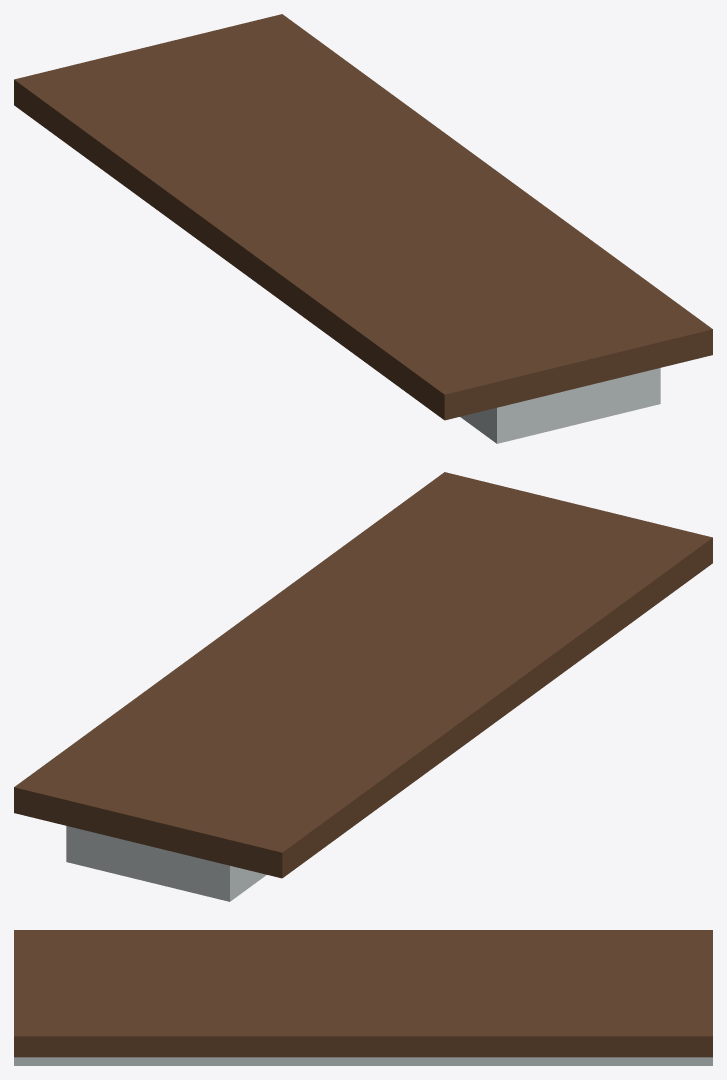
The model's file is Table_mat.fbx.
3 views of the same model, one above another, from view 1: azimuth 30°, elevation 25°; view 2: azimuth 150°, elevation 25°; view 3: azimuth 270°, elevation 25° (orthographic). The views are drawn at different scales.
Parts seen in each view (by area): view 1: Table_mat.001; view 2: Table_mat.001; view 3: Table_mat.001.
Boxes of the visible parts, <box> form: Table_mat.001: <box>14,14,712,443</box>; Table_mat.001: <box>14,472,712,901</box>; Table_mat.001: <box>14,930,712,1065</box>.
Size of the model in its own units: 0.9967 by 0.2201 by 2.77.
